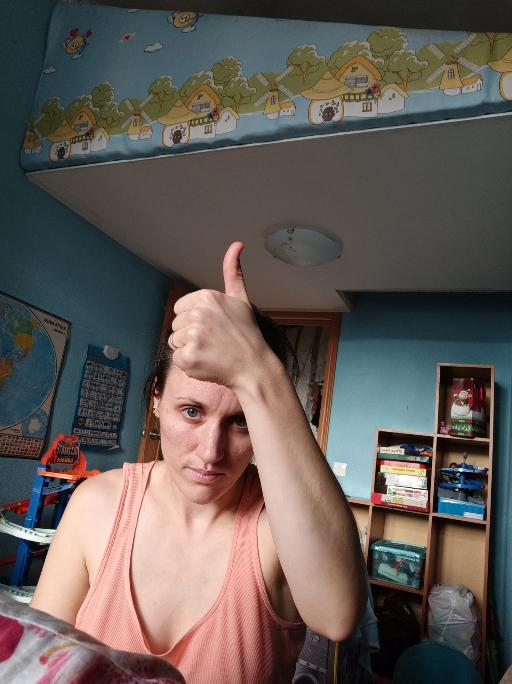like: (165, 237, 271, 388)
